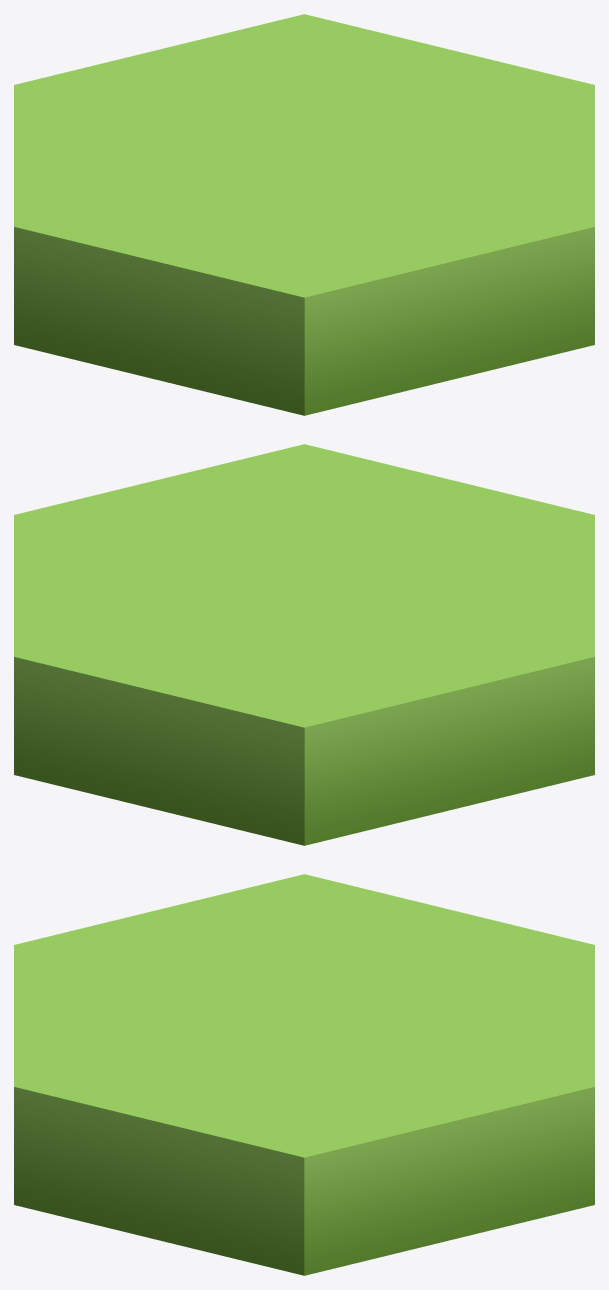
Rendered from lowpoly_spot_green.fbx.
3 renders of one model, top to bottom at view 1: azimuth 30°, elevation 25°; view 2: azimuth 150°, elevation 25°; view 3: azimuth 270°, elevation 25°, orthographic.
Visible parts, largest first — view 1: lowpoly_spot_green; view 2: lowpoly_spot_green; view 3: lowpoly_spot_green.
Boxes of the visible parts, box(x1,y1,x2,y2) form: lowpoly_spot_green: box(14, 14, 594, 415); lowpoly_spot_green: box(14, 444, 594, 845); lowpoly_spot_green: box(14, 874, 594, 1275).
Size of the model in its own units: 366 by 71.12 by 317.
Materials: 1 (1 with a texture image).
